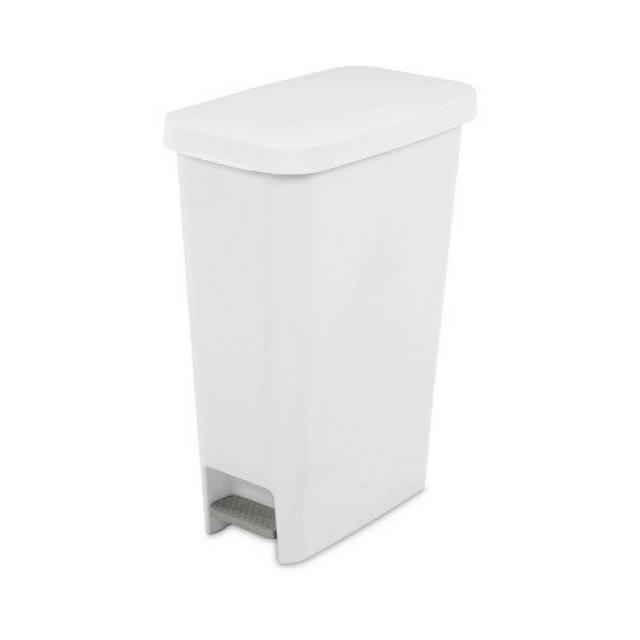Dumpster: (158, 58, 482, 572)
